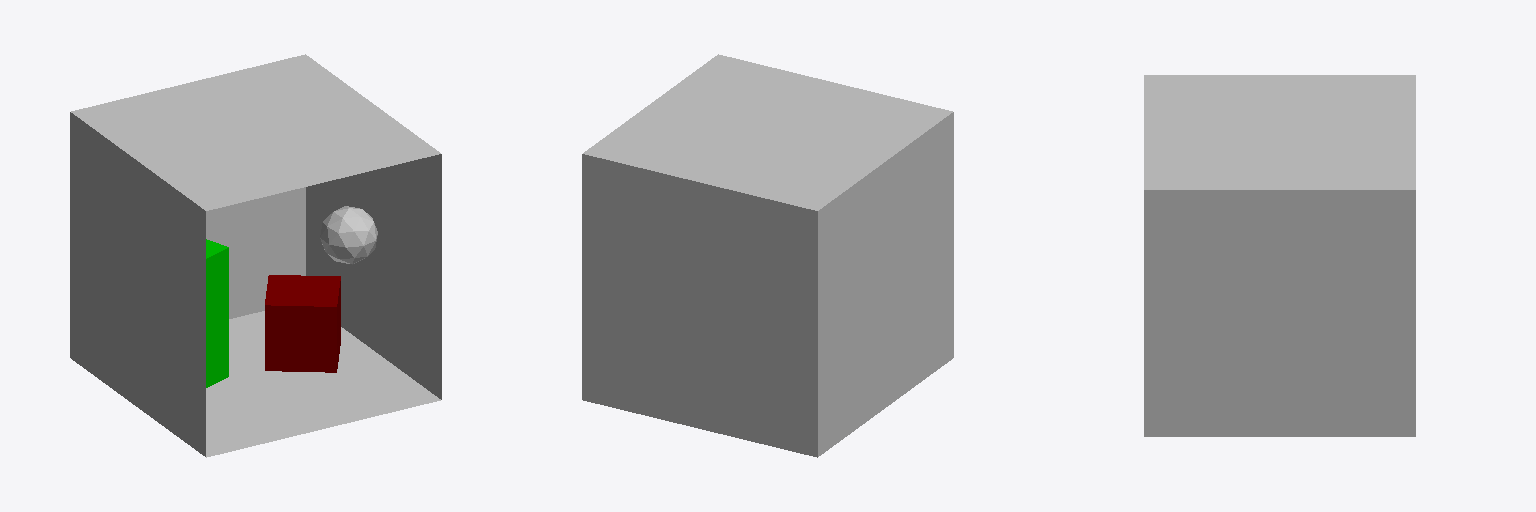
File: Box_SmoothSphere.obj
The picture shows the model from 3 angles: view 1: azimuth 30°, elevation 25°; view 2: azimuth 150°, elevation 25°; view 3: azimuth 270°, elevation 25°; orthographic projection.
Parts seen in each view (by area): view 1: Cube.001, Cube.002, Cube, Icosphere; view 2: Cube.001; view 3: Cube.001.
Boxes of the visible parts, box(x1,y1,x2,y2) form: Cube.001: box(70, 54, 441, 457); Cube.002: box(265, 275, 340, 372); Cube: box(206, 239, 228, 387); Icosphere: box(320, 206, 377, 264); Cube.001: box(582, 54, 953, 457); Cube.001: box(1144, 75, 1415, 436).
Bounding box in the file's own units: 4 × 4 × 4.